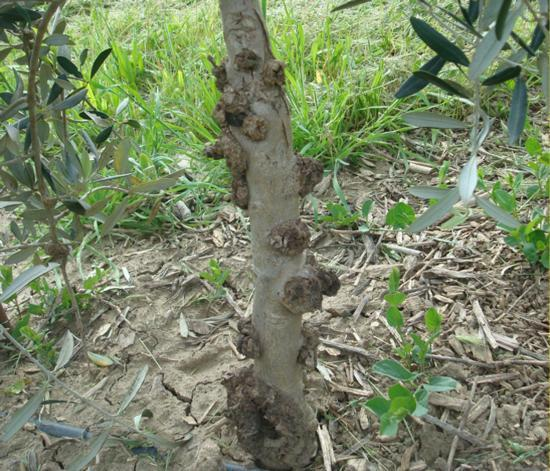Tuberculosis: (204, 123, 254, 211), (275, 265, 343, 315), (267, 214, 313, 258), (220, 83, 256, 130), (292, 152, 325, 198), (232, 318, 267, 359), (298, 324, 323, 365), (240, 113, 270, 143), (232, 47, 261, 73), (210, 64, 230, 93)
